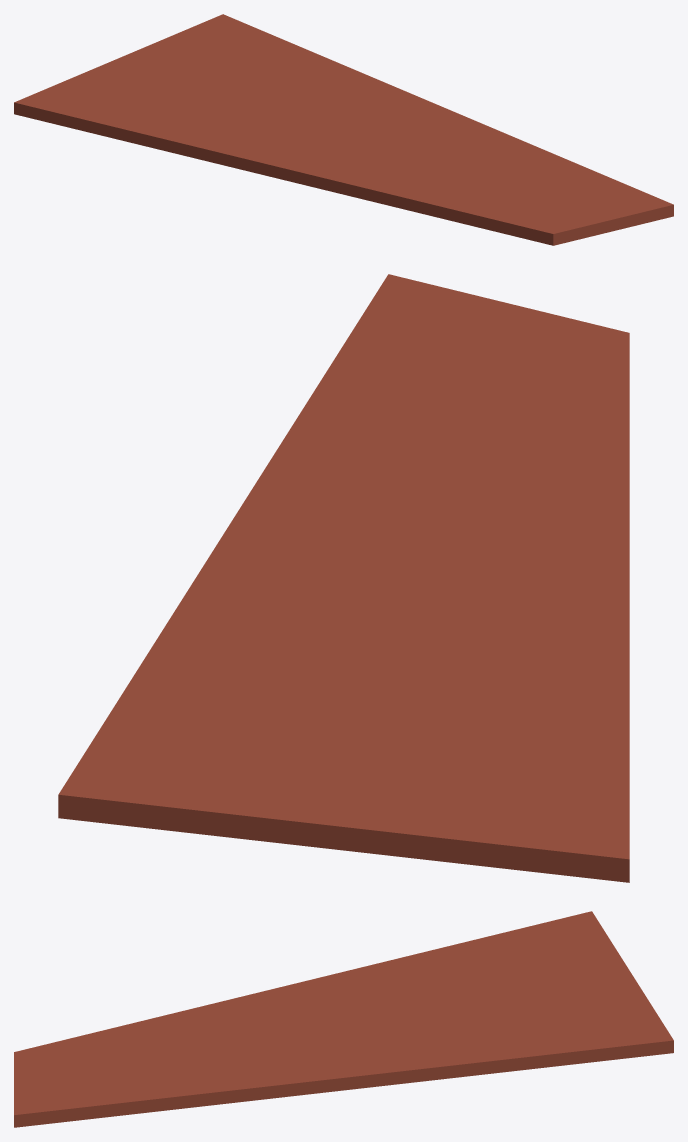
Rendered from marrom.fbx.
3 views of the same model, one above another, from view 1: azimuth 30°, elevation 25°; view 2: azimuth 150°, elevation 25°; view 3: azimuth 270°, elevation 25° (orthographic). The views are drawn at different scales.
Parts seen in each view (by area): view 1: Cube; view 2: Cube; view 3: Cube.
Boxes of the visible parts, <box> form: Cube: <box>14,14,673,245</box>; Cube: <box>58,274,629,882</box>; Cube: <box>14,911,673,1127</box>.
Bounding box in the file's own units: 868 × 25 × 1187.
